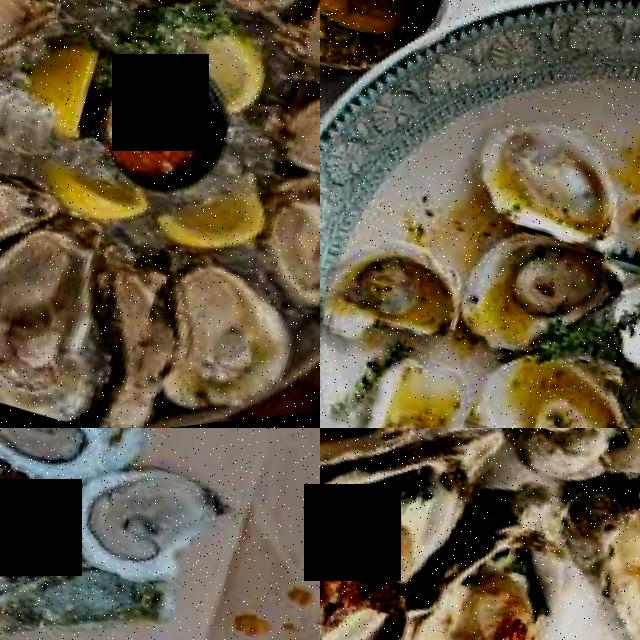oysters: (359, 461, 611, 640), (320, 428, 487, 640), (445, 93, 640, 273), (42, 444, 234, 622), (0, 204, 135, 428), (126, 261, 303, 428), (446, 214, 626, 369), (442, 328, 640, 428), (222, 178, 320, 326), (484, 428, 640, 519), (320, 348, 482, 428), (0, 463, 85, 606), (247, 71, 320, 236), (566, 266, 640, 428), (274, 0, 320, 122)
